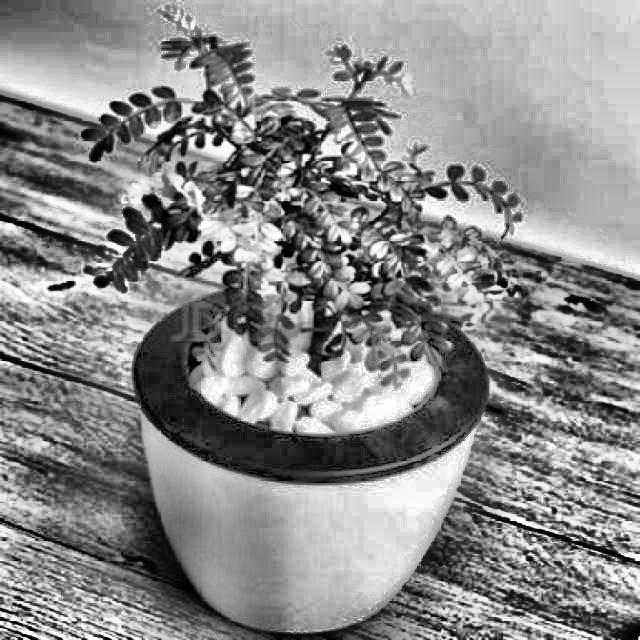plants: (136, 39, 470, 626)
